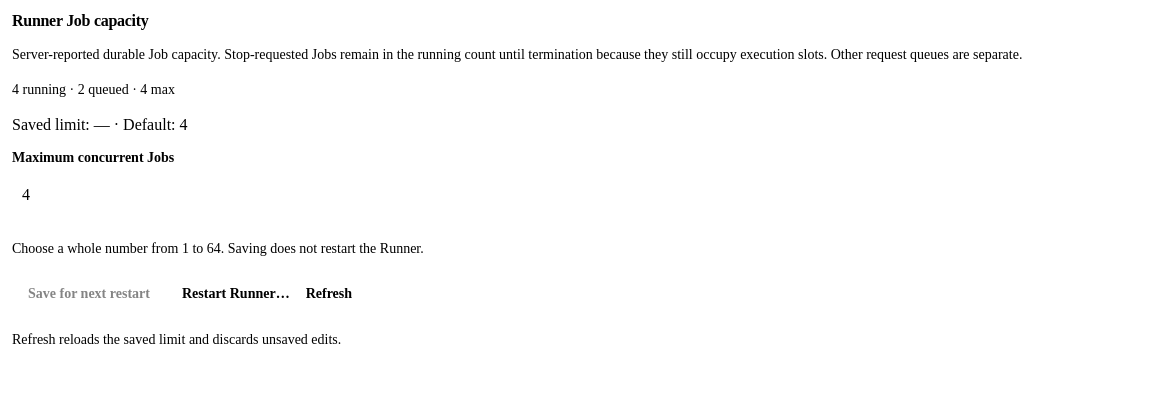
Test case: local Runner concurrency settings › separates saved and effective limits without restarting while saving
Expected: the text "4 running · 2 queued · 4 max" is shown, [12, 82, 175, 97]
Expected: the text "Saved limit: — · Default: 4" is shown, [12, 116, 188, 133]
Replace the text in the number field labelled "Maximum concurrent Jobs" with "12" at (588, 195), box [12, 173, 1164, 217]
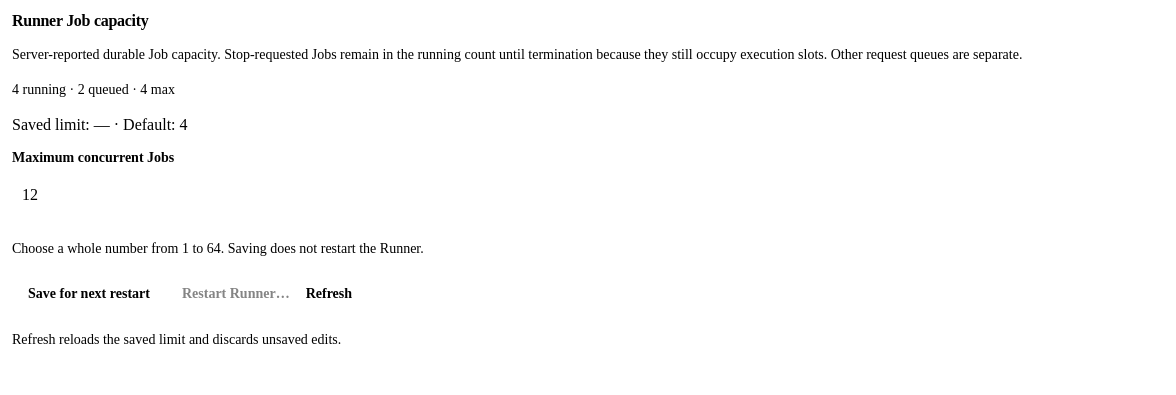
Click the button "Save for next restart" at (89, 294), box [12, 273, 166, 315]
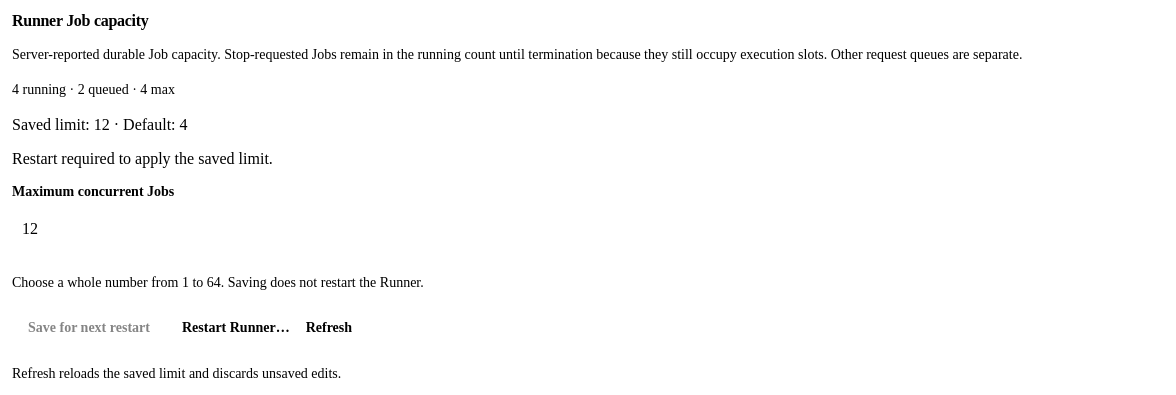
Expected: the text "4 running · 2 queued · 4 max" is shown, [12, 82, 175, 97]
Now the text "Restart required to apply the saved limit." is shown, box [12, 150, 273, 167]
